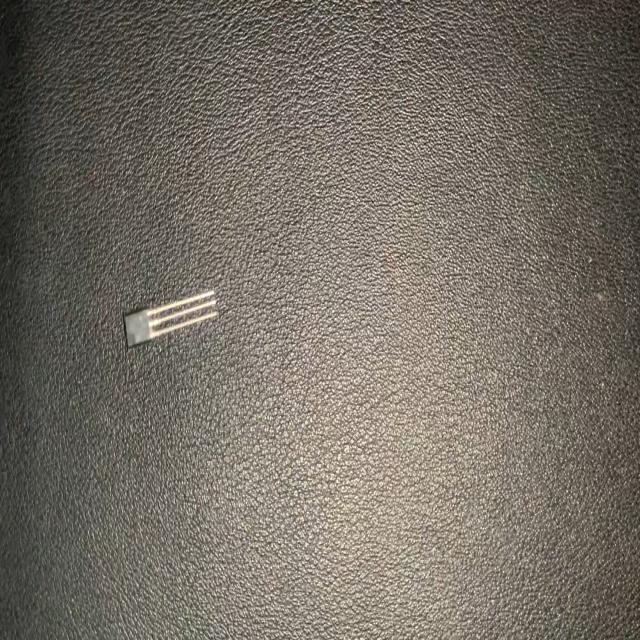BJT: (121, 287, 218, 350)
